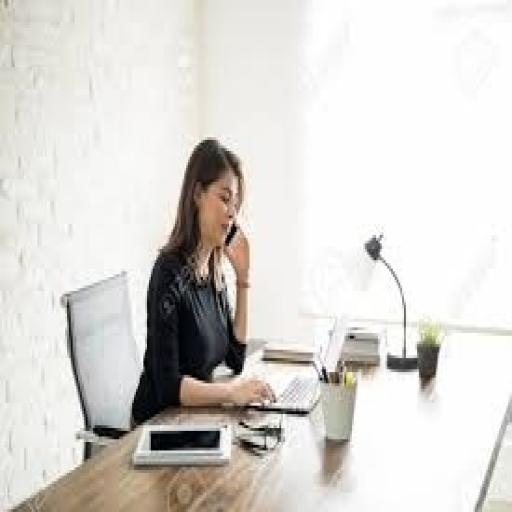calling: (128, 134, 278, 428)
